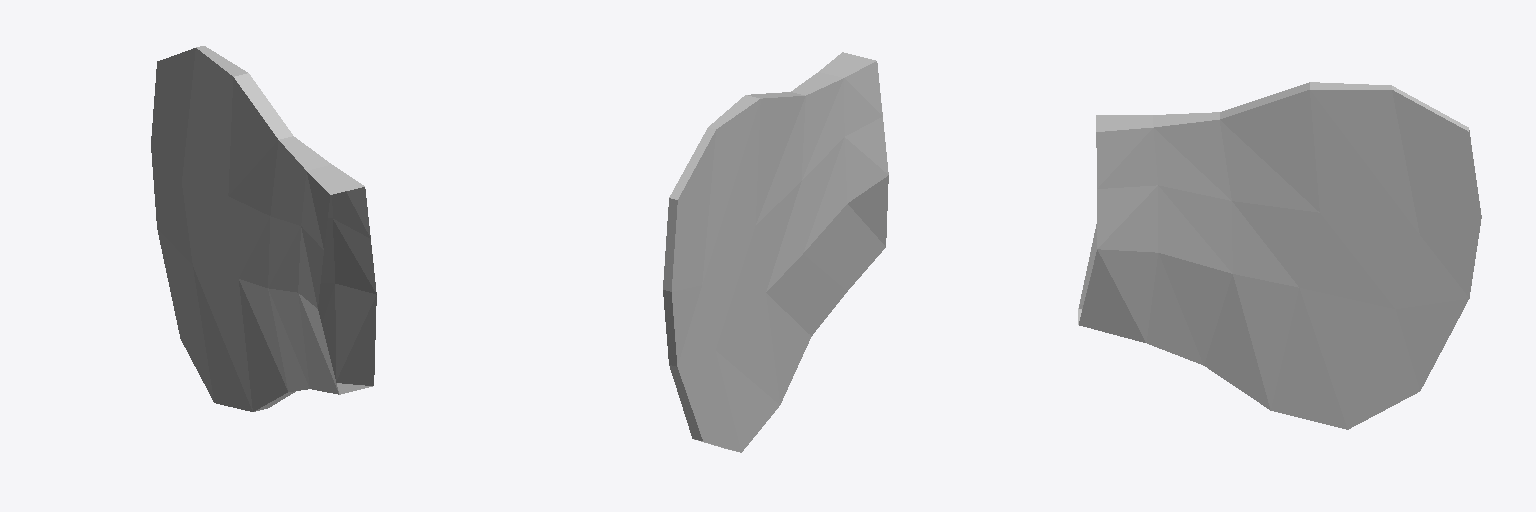
The model's file is PezC6.obj.
The picture shows the model from 3 angles: view 1: azimuth 30°, elevation 25°; view 2: azimuth 150°, elevation 25°; view 3: azimuth 270°, elevation 25°; orthographic projection.
Visible parts, largest first — view 1: polySurface2 TropicalFish12:TropicalFish12; view 2: polySurface2 TropicalFish12:TropicalFish12; view 3: polySurface2 TropicalFish12:TropicalFish12.
Part boxes in pixels (x1,y1,x2,y2): polySurface2 TropicalFish12:TropicalFish12: (151,46,376,411); polySurface2 TropicalFish12:TropicalFish12: (663,52,888,452); polySurface2 TropicalFish12:TropicalFish12: (1078,82,1481,429).
Bounding box in the file's own units: 0.4291 × 2.37 × 2.54.